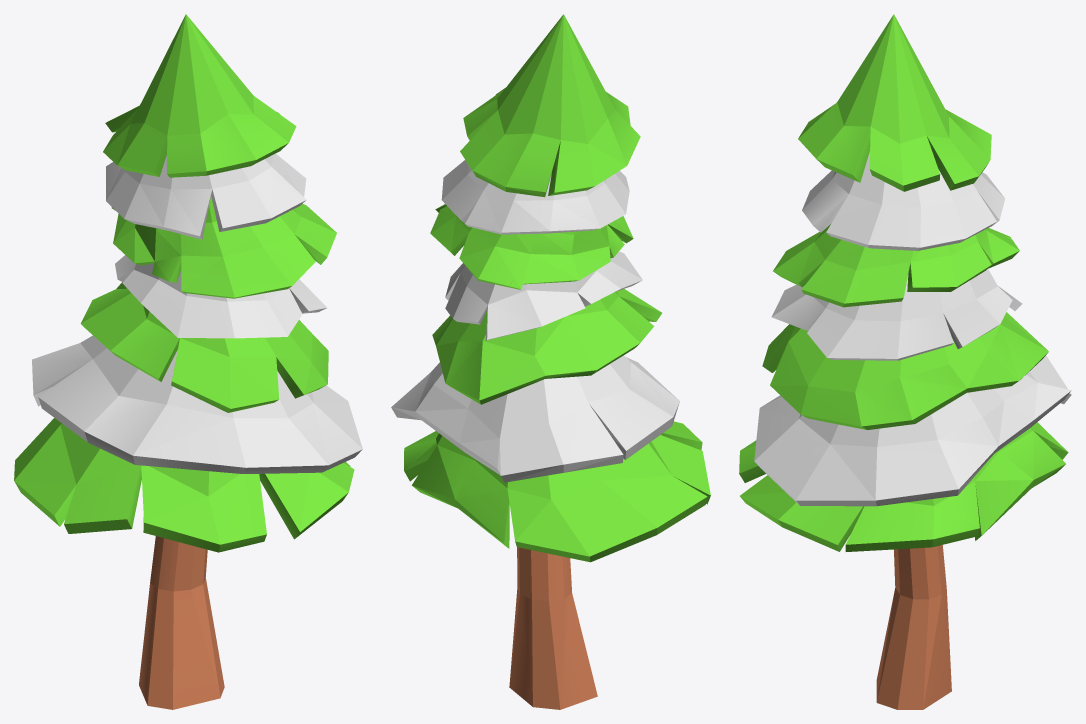
Rendered from Tree_5 Village.fbx.
3 views of the same model, side by side, from view 1: azimuth 30°, elevation 25°; view 2: azimuth 150°, elevation 25°; view 3: azimuth 270°, elevation 25° (orthographic).
Visible parts, largest first — view 1: Tree_5; view 2: Tree_5; view 3: Tree_5.
Part boxes in pixels (left/top/right/bottom): Tree_5: left=14, top=14, right=362, bottom=709; Tree_5: left=391, top=14, right=710, bottom=709; Tree_5: left=739, top=14, right=1071, bottom=709.
Bounding box in the file's own units: 2.52 × 5.64 × 2.51.
